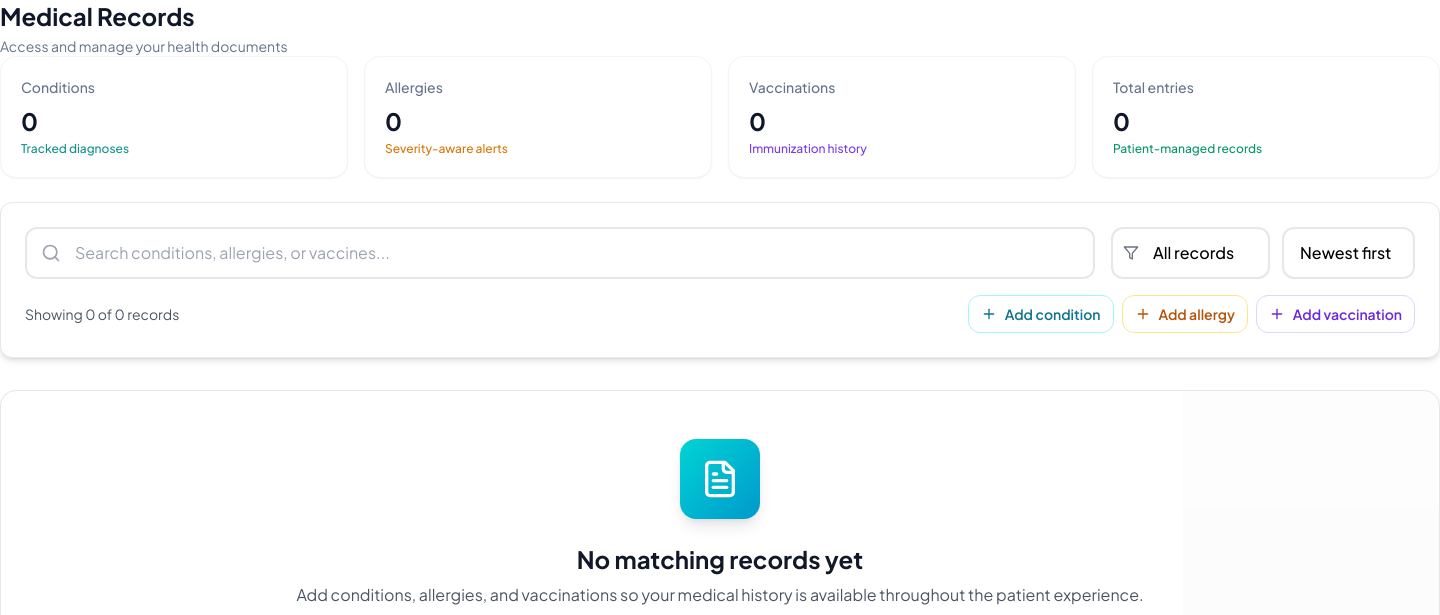
PatientRecords › submits a new condition and refetches the records
Click the button "Add condition": [1041, 314] box [968,295,1114,333]
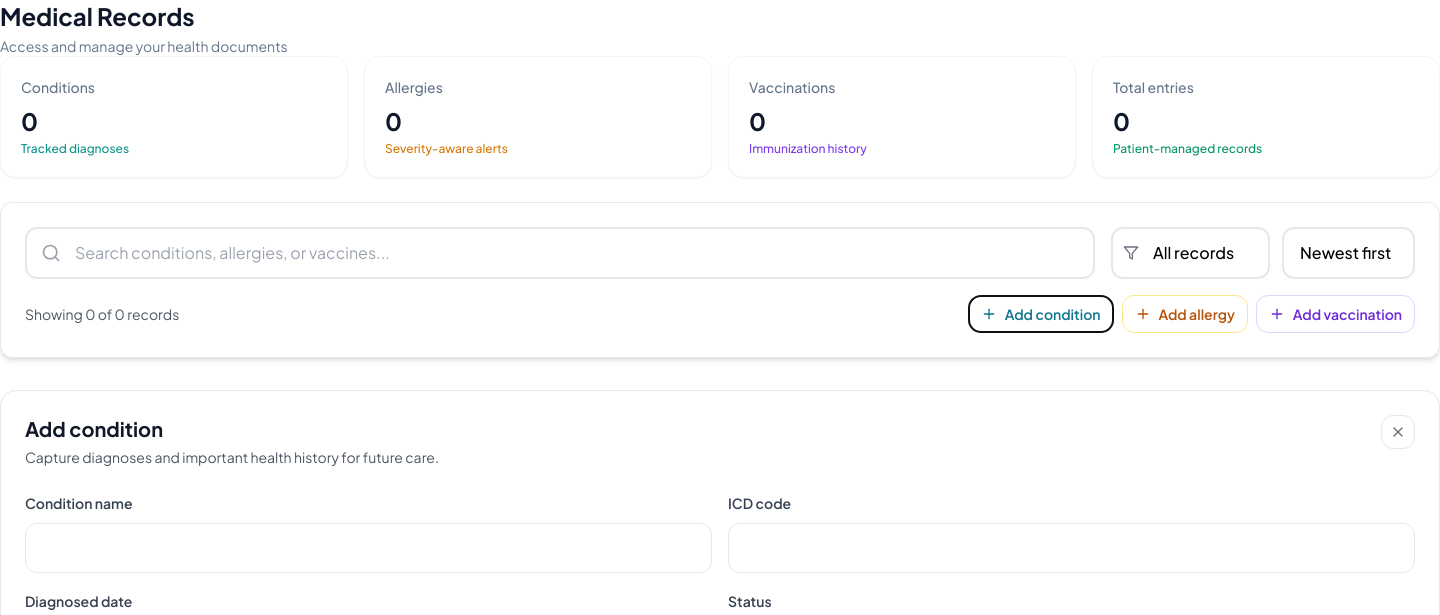
In the field labelled "Condition name": [368, 548] box [25,523,712,573], type "Asthma"
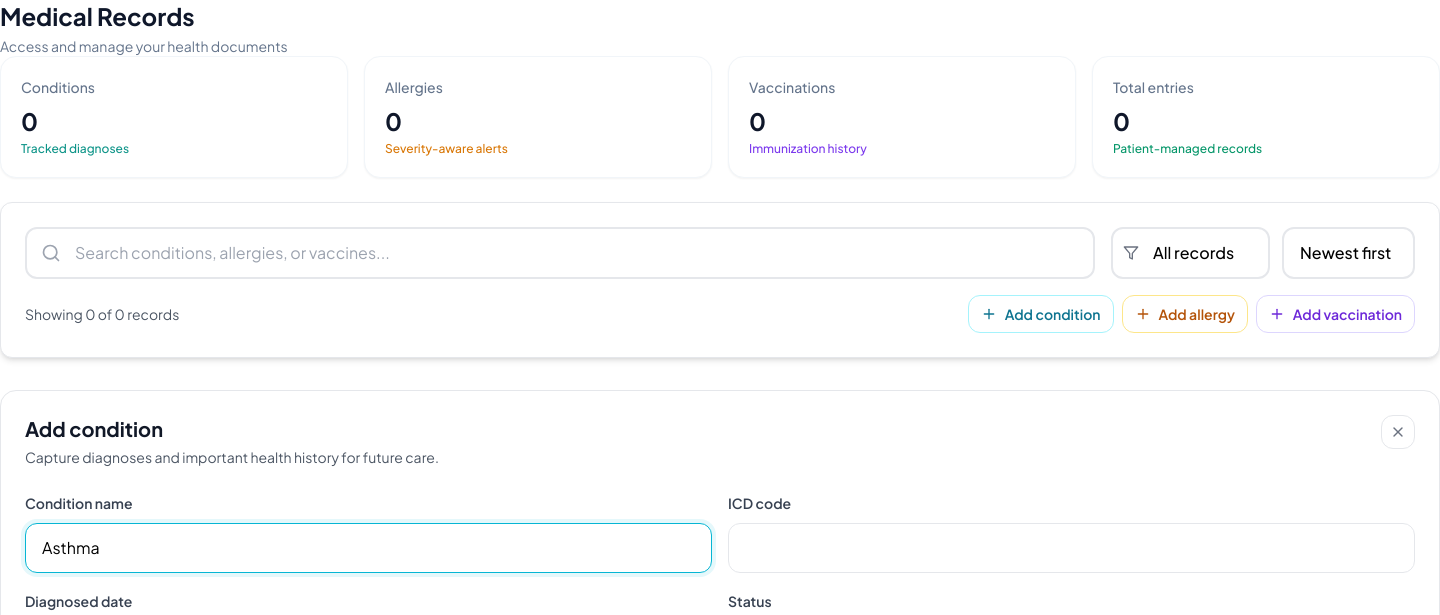
In the field labelled "ICD code": [1072, 548] box [728,523,1415,573], type "J45"
(page scrolled)
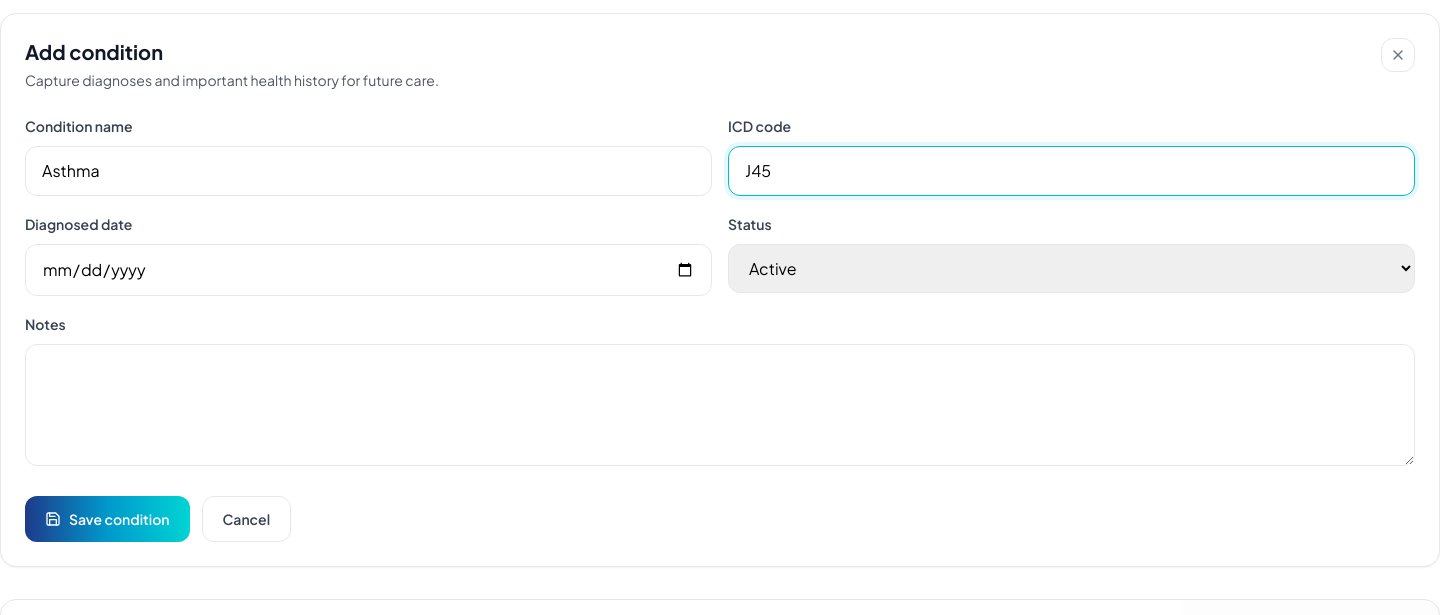
In the text box labelled "Notes": [720, 405] box [25,344,1415,466], type "Triggered by dust exposure."
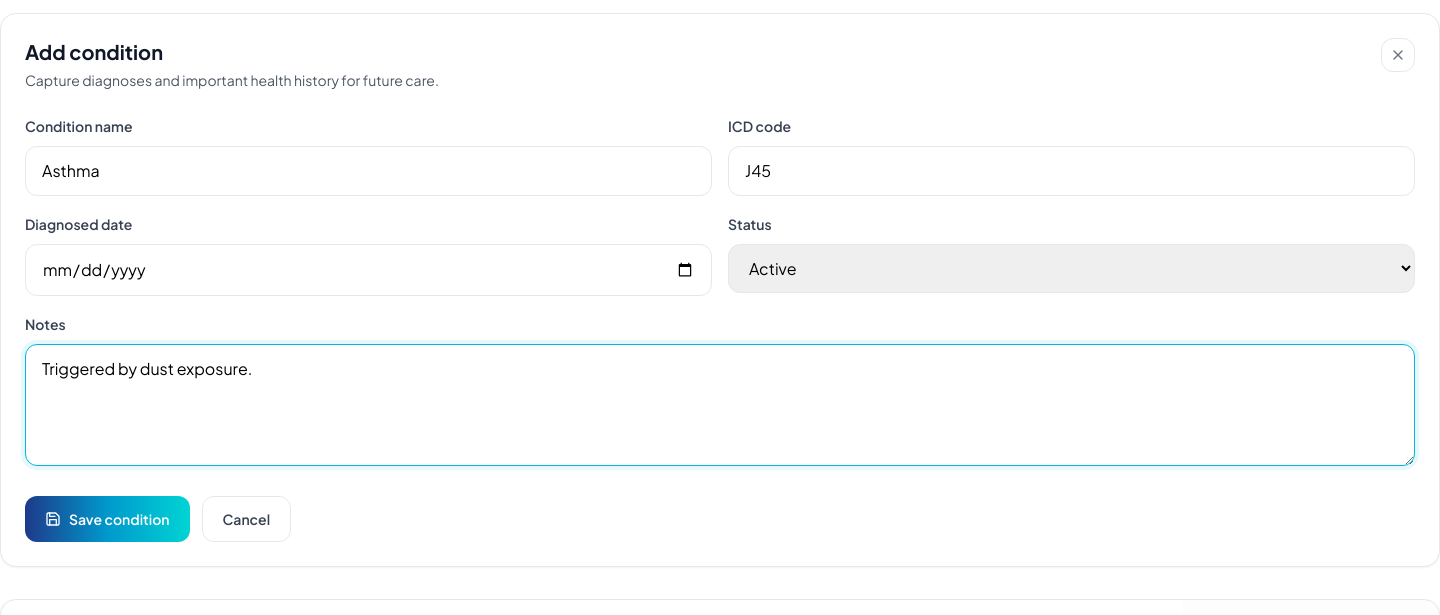
Click the button "Save condition": [107, 519] box [25,496,190,542]
(page scrolled)
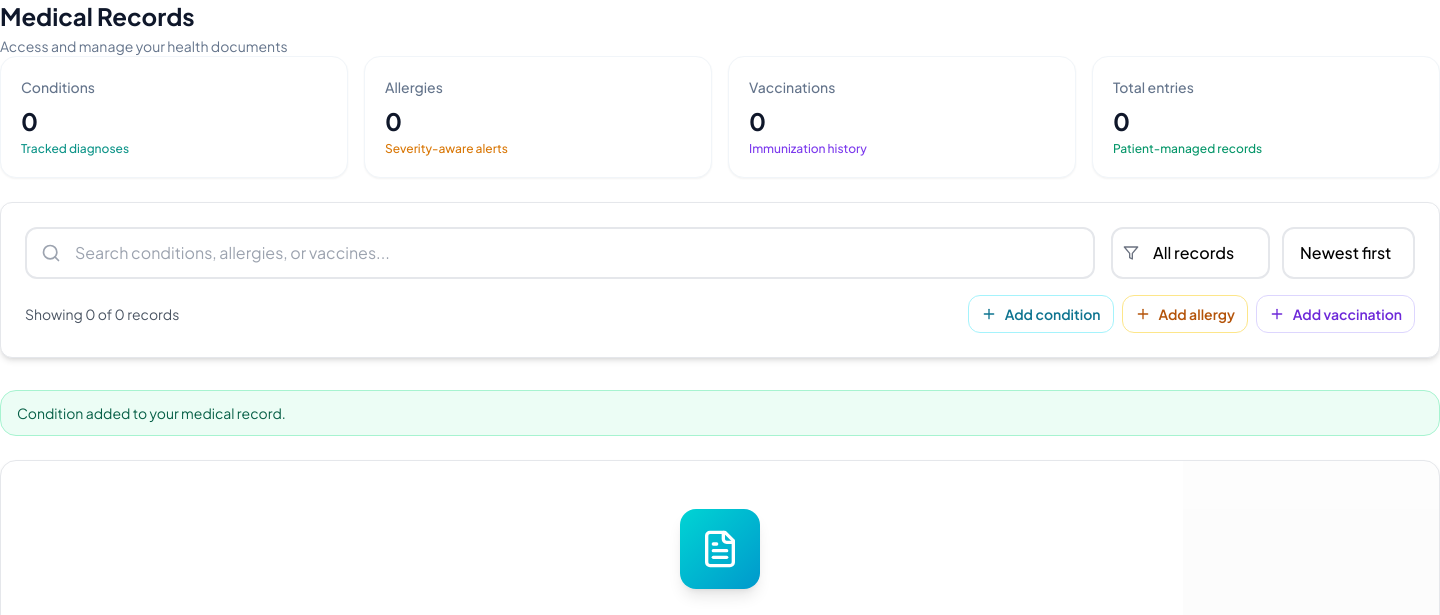
Now the text "Condition added to your medical record." is shown, box [0,390,1439,436]
